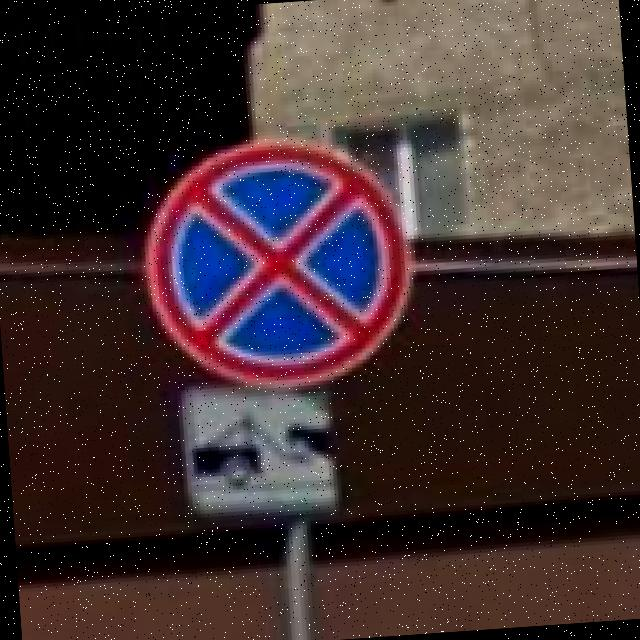Zakaz zatrzymywania sie: (133, 129, 420, 396)
